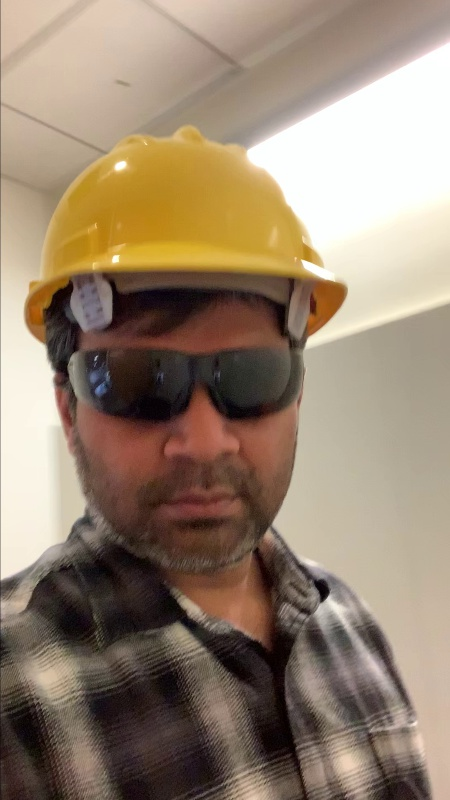glasses: (55, 345, 313, 415)
helmet: (28, 126, 336, 275)
